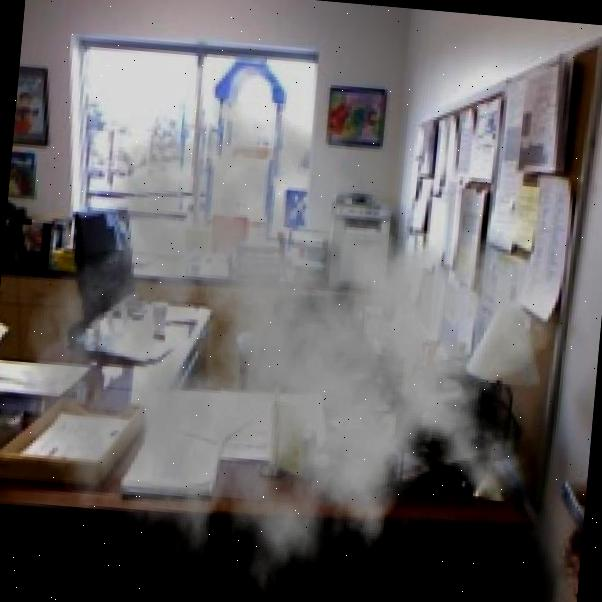smoke: (4, 69, 583, 602)
